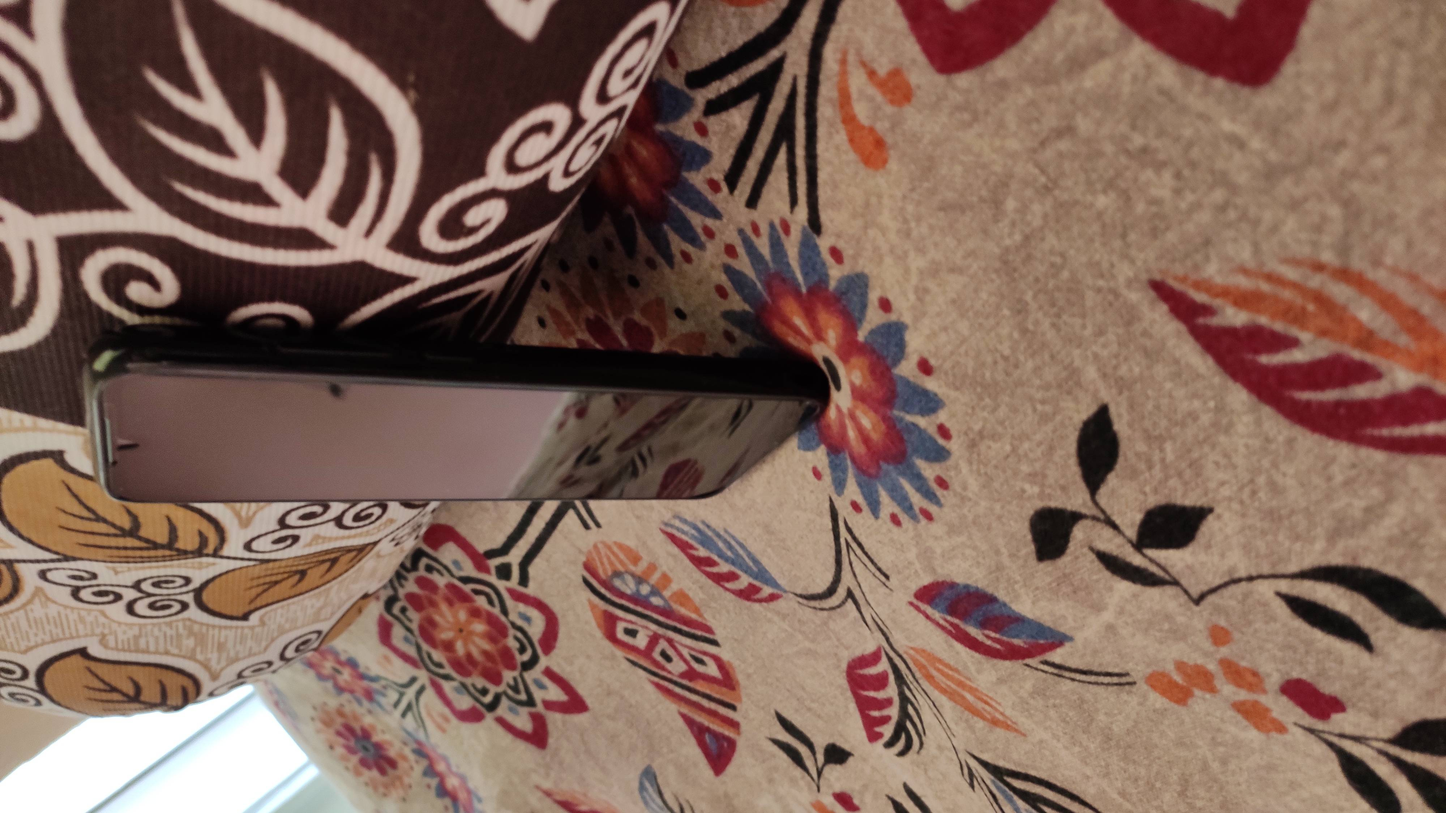Electronics: (51, 301, 857, 571)
